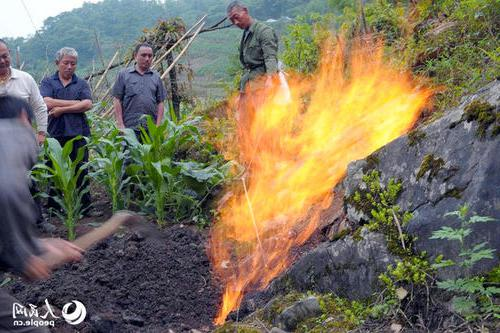fire: (206, 30, 441, 313)
